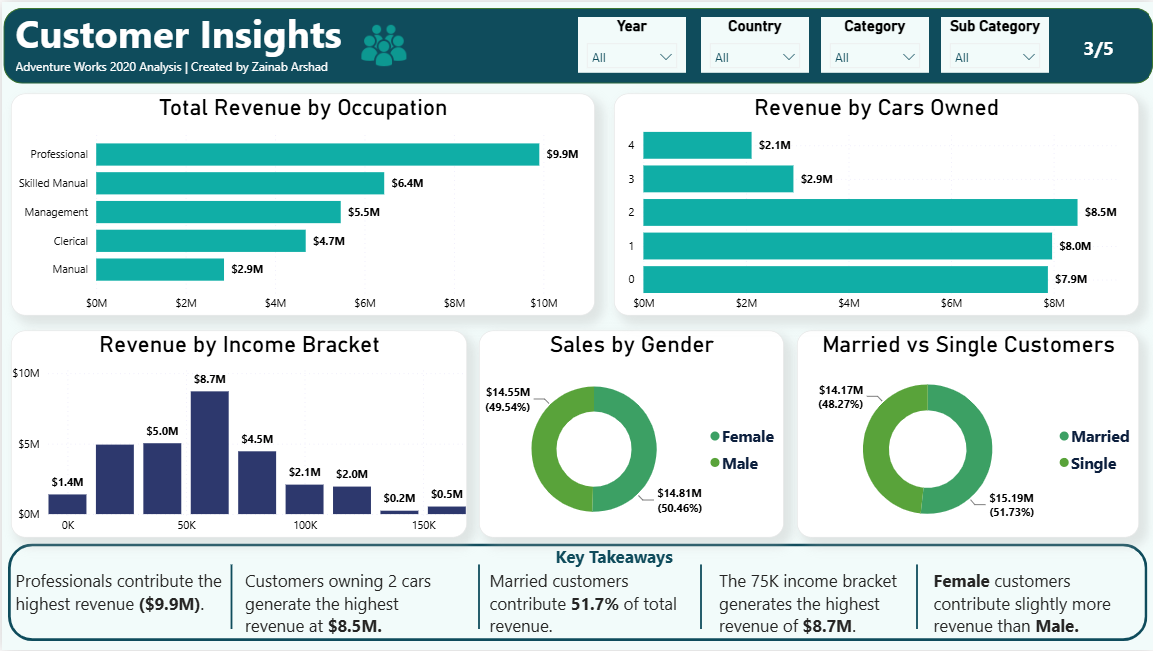

The page's visual inventory and layout, read from the dashboard file:
{"tool":"powerbi","page":{"name":"Customer Insights","canvas":[1280,720],"ordinal":2},"visuals":[{"type":"shape","box":[6,601.7,1266,108.3],"z":0},{"type":"clusteredBarChart","fields":{"Category":["Customers.Occupation"],"Y":["Sales.Total Revenue"]},"box":[10,101.7,648.3,246.7],"z":1000},{"type":"clusteredColumnChart","title":"Revenue by Income Bracket","fields":{"Category":["Customers.YearlyIncome (bins)"],"Y":["Sales.Total Revenue"]},"box":[10,365,506.7,230],"z":2000},{"type":"donutChart","title":"Sales by Gender","fields":{"Category":["Customers.Gender"],"Y":["Sales.Total Revenue"]},"box":[530,365,338.3,230],"z":3000},{"type":"donutChart","title":"Married vs Single Customers","fields":{"Category":["Customers.MaritalStatus"],"Y":["Sales.Total Revenue"]},"box":[883.3,365,380,230],"z":4000},{"type":"clusteredBarChart","title":"Revenue by Cars Owned","fields":{"Category":["Customers.NumberCarsOwned"],"Y":["Sales.Total Revenue"]},"box":[680,101.7,583.3,246.7],"z":5000},{"type":"shape","box":[1,7,1278.3,84],"z":6000},{"type":"slicer","title":"Year","fields":{"Values":["Calendar.CalendarYear"]},"box":[640,16.7,120,61.7],"z":7000},{"type":"slicer","title":"Sub Category","fields":{"Values":["Products.SubCategory"]},"box":[1043.3,16.7,120,61.7],"z":8000},{"type":"slicer","title":"Category","fields":{"Values":["Products.Category"]},"box":[910,16.7,120,61.7],"z":9000},{"type":"slicer","title":"Country","fields":{"Values":["Territory.Country"]},"box":[776.7,16.7,120,61.7],"z":10000},{"type":"textbox","box":[1196,30,62,48],"z":11000},{"type":"textbox","box":[10,0,475,91.7],"z":12000},{"type":"image","box":[390,24,68,50],"z":13000},{"type":"textbox","box":[555,598,250,36.7],"z":14000},{"type":"textbox","box":[10,625,250,84],"z":15000},{"type":"textbox","box":[265,625,250,84],"z":16000},{"type":"textbox","box":[536.7,625,250,88.3],"z":17000},{"type":"textbox","box":[791,625,250,84],"z":18000},{"type":"textbox","box":[1030,625,250,84],"z":19000},{"type":"shape","box":[208.3,625,93.3,71.7],"z":20000},{"type":"shape","box":[483.3,625,93.3,71.7],"z":21000},{"type":"shape","box":[730,625,93.3,71.7],"z":22000},{"type":"shape","box":[970,625,93.3,71.7],"z":23000}]}

Visuals, with their boxes in screenshot pixels (x1, y1, x2, y2), scaled from the page's 1280x720 canvas onto the 1153x651 screenshot:
shape: (left=5, top=544, right=1146, bottom=642)
clusteredBarChart - Customers.Occupation x Sales.Total Revenue: (left=9, top=92, right=593, bottom=315)
"Revenue by Income Bracket" clusteredColumnChart: (left=9, top=330, right=465, bottom=538)
"Sales by Gender" donutChart: (left=477, top=330, right=782, bottom=538)
"Married vs Single Customers" donutChart: (left=796, top=330, right=1138, bottom=538)
"Revenue by Cars Owned" clusteredBarChart: (left=613, top=92, right=1138, bottom=315)
shape: (left=1, top=6, right=1152, bottom=82)
"Year" slicer: (left=576, top=15, right=685, bottom=71)
"Sub Category" slicer: (left=940, top=15, right=1048, bottom=71)
"Category" slicer: (left=820, top=15, right=928, bottom=71)
"Country" slicer: (left=700, top=15, right=808, bottom=71)
textbox: (left=1077, top=27, right=1133, bottom=71)
textbox: (left=9, top=0, right=437, bottom=83)
image: (left=351, top=22, right=413, bottom=67)
textbox: (left=500, top=541, right=725, bottom=574)
textbox: (left=9, top=565, right=234, bottom=641)
textbox: (left=239, top=565, right=464, bottom=641)
textbox: (left=483, top=565, right=709, bottom=645)
textbox: (left=713, top=565, right=938, bottom=641)
textbox: (left=928, top=565, right=1152, bottom=641)
shape: (left=188, top=565, right=272, bottom=630)
shape: (left=435, top=565, right=519, bottom=630)
shape: (left=658, top=565, right=742, bottom=630)
shape: (left=874, top=565, right=958, bottom=630)
